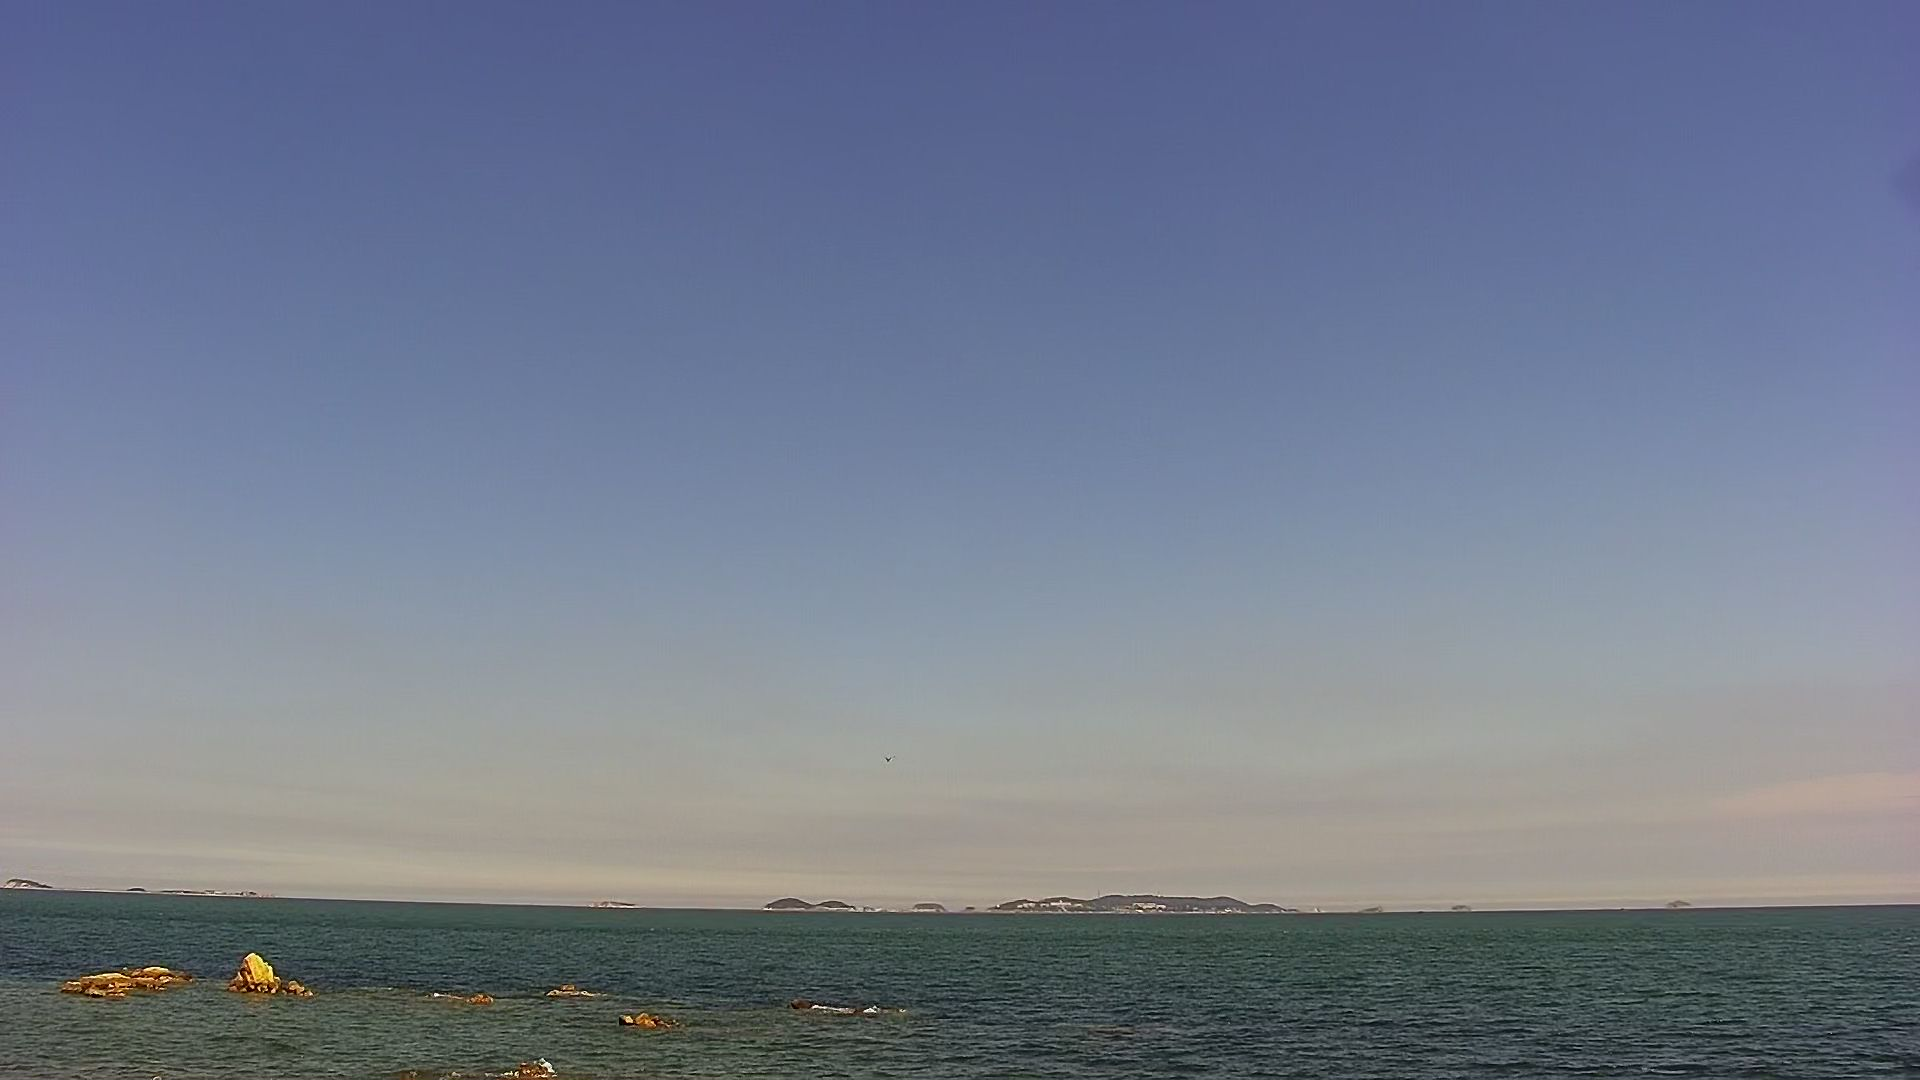rock: (980, 887, 1313, 916), (44, 957, 193, 1002), (223, 942, 326, 1004), (790, 984, 893, 1034), (417, 980, 514, 1019), (601, 1000, 702, 1034), (109, 880, 276, 899), (756, 885, 829, 916), (811, 891, 895, 913), (546, 975, 604, 1004), (907, 895, 971, 916), (1, 874, 73, 893), (591, 894, 651, 914), (1352, 895, 1400, 918), (1658, 893, 1701, 918), (1440, 897, 1485, 916)
